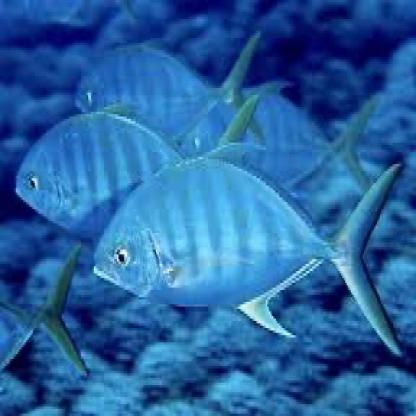Carangidae -Jacks-: (91, 127, 404, 362)
